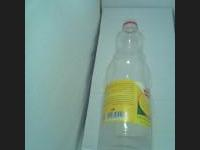bottle: (95, 19, 153, 150)
